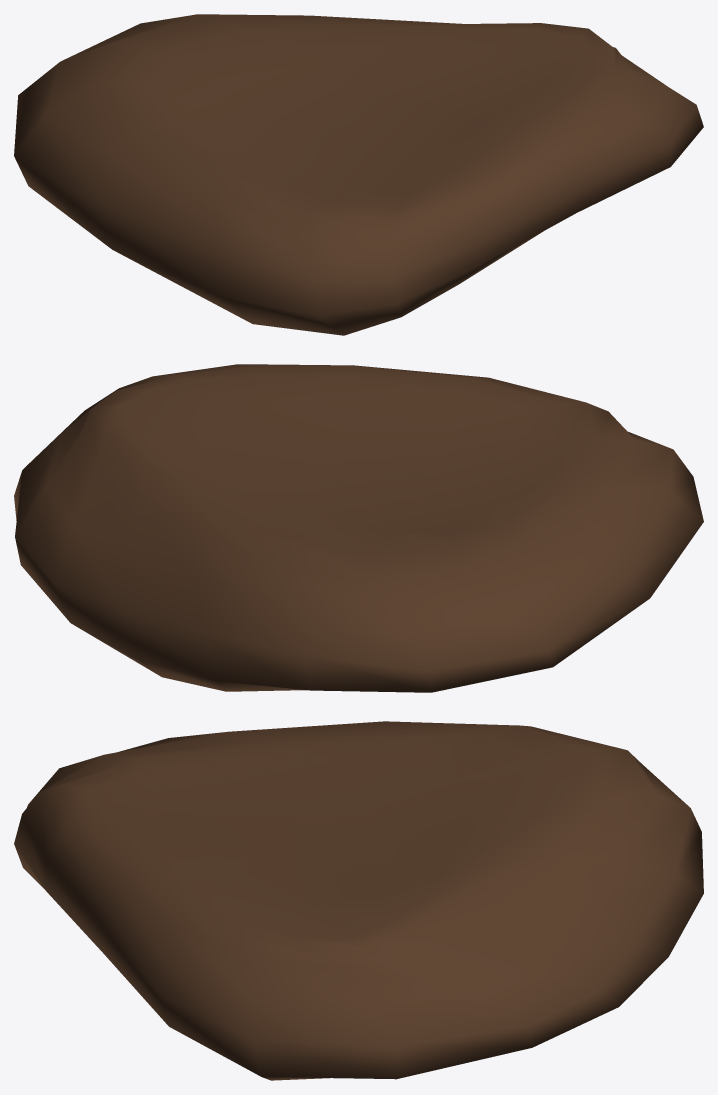
The model's file is platform.fbx.
3 renders of one model, top to bottom at view 1: azimuth 30°, elevation 25°; view 2: azimuth 150°, elevation 25°; view 3: azimuth 270°, elevation 25°, orthographic. The views are drawn at different scales.
Visible parts, largest first — view 1: platform; view 2: platform; view 3: platform.
Part boxes in pixels (box(x1,y1,x2,y2)): platform: box(14, 14, 703, 335); platform: box(14, 364, 703, 692); platform: box(14, 721, 703, 1080).
Size of the model in its own units: 0.9716 by 0.1892 by 0.9147.
